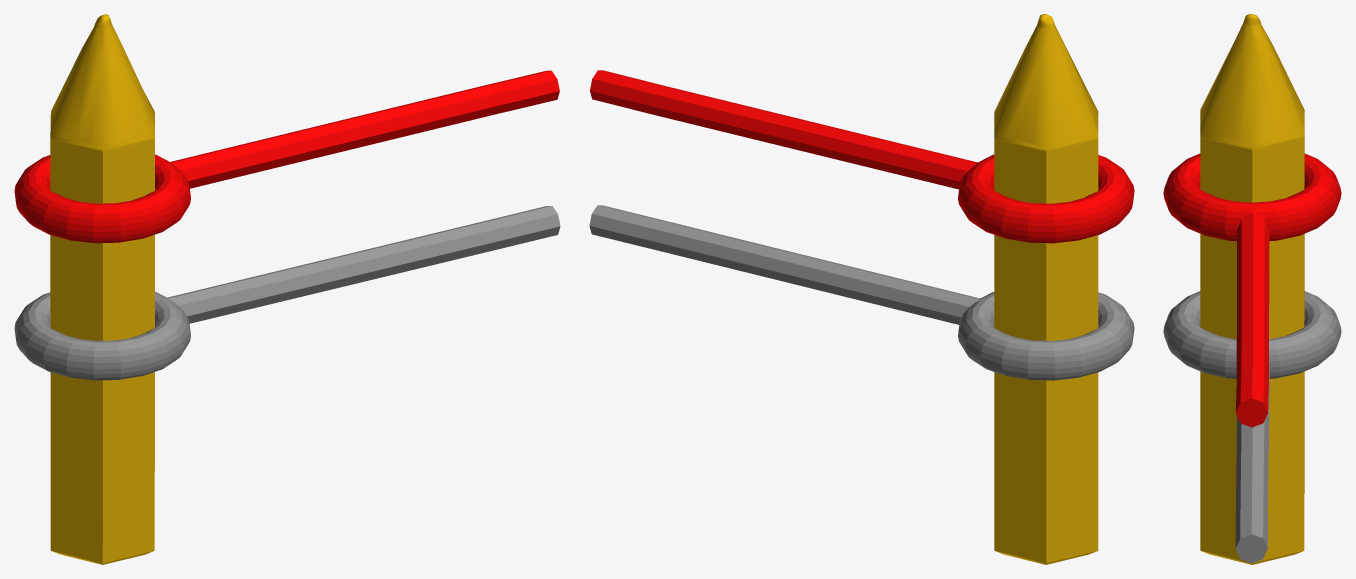
Rendered from weilan_lazhu.fbx.
3 renders of one model, left to right at view 1: azimuth 30°, elevation 25°; view 2: azimuth 150°, elevation 25°; view 3: azimuth 270°, elevation 25°, orthographic.
Parts seen in each view (by area): view 1: B; view 2: B; view 3: B.
Boxes of the visible parts, bbox=[...] form: B: bbox=[14, 14, 560, 564]; B: bbox=[589, 14, 1134, 564]; B: bbox=[1163, 14, 1341, 564].
Bounding box in the file's own units: 23.12 × 22.38 × 6.76.
